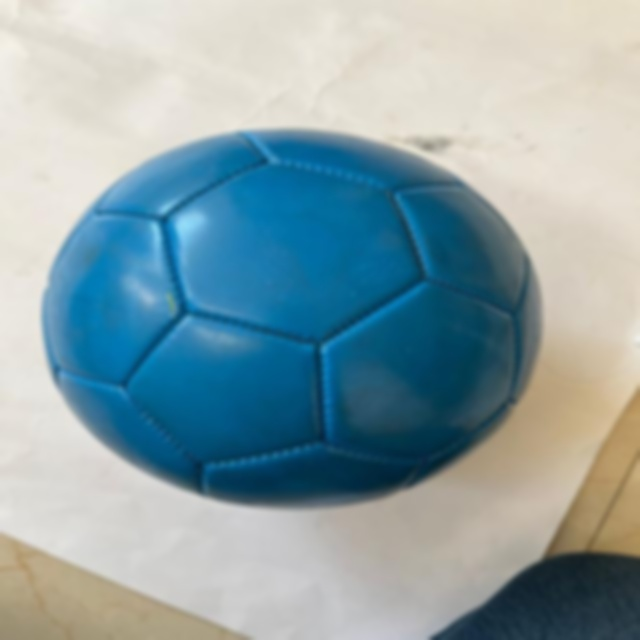blue_ball: (48, 124, 544, 511)
